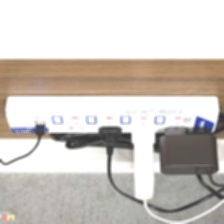three_eye_plug: (1, 92, 222, 138)
